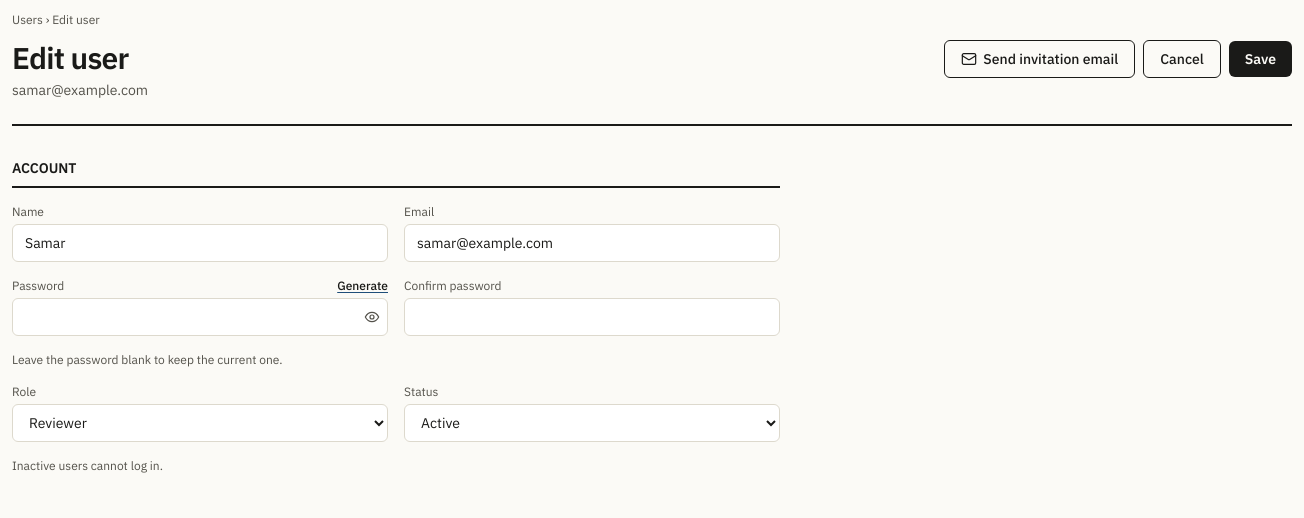
Scenario: UserEditPage › hydrates the form in edit mode and omits a blank password
expect the dropdown with test id "user-role" shows "Reviewer": met, box left=12, top=404, right=388, bottom=442
Step 1. Replace the text in the field with test id "user-name" with "Samar K" → (200, 243), box left=12, top=224, right=388, bottom=262
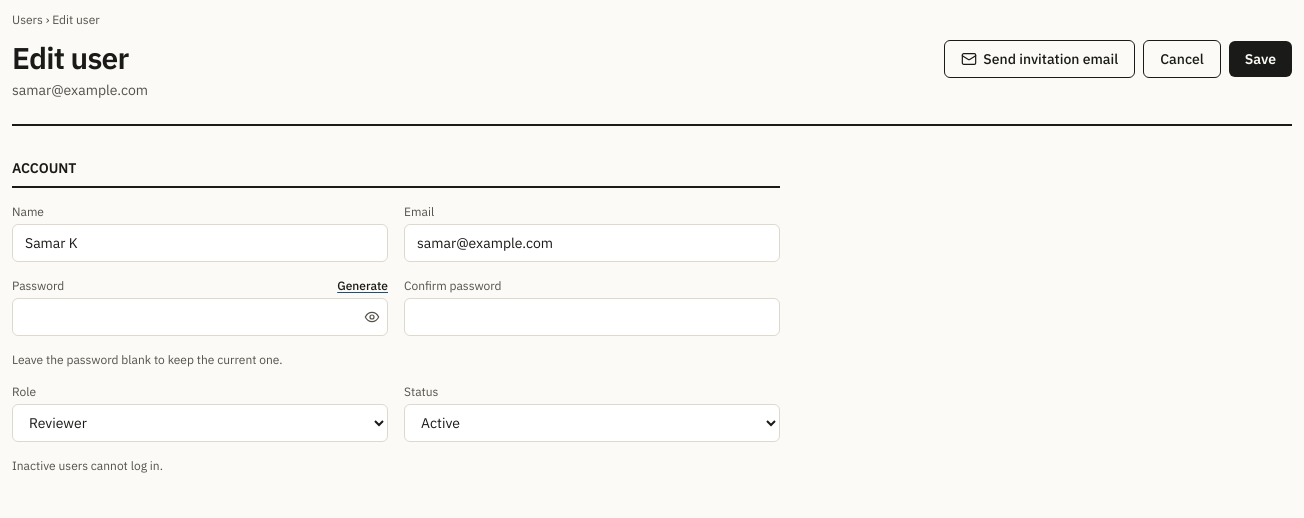
Step 2. Submit the form from the button with test id "user-submit", box left=1229, top=41, right=1292, bottom=77
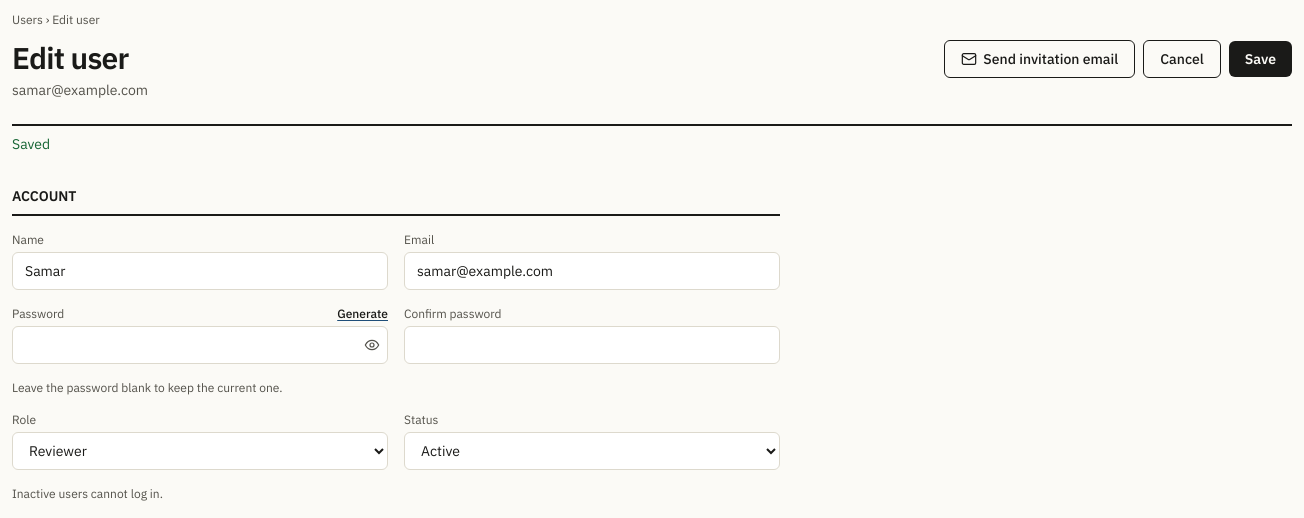
expect the text "Saved" is shown: met, box left=12, top=135, right=50, bottom=153
